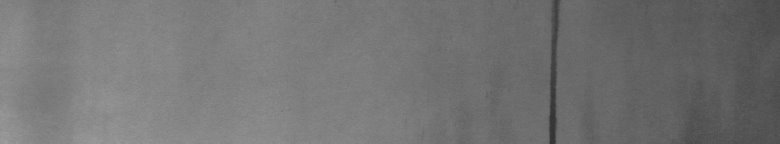hd: (541, 4, 565, 136)
